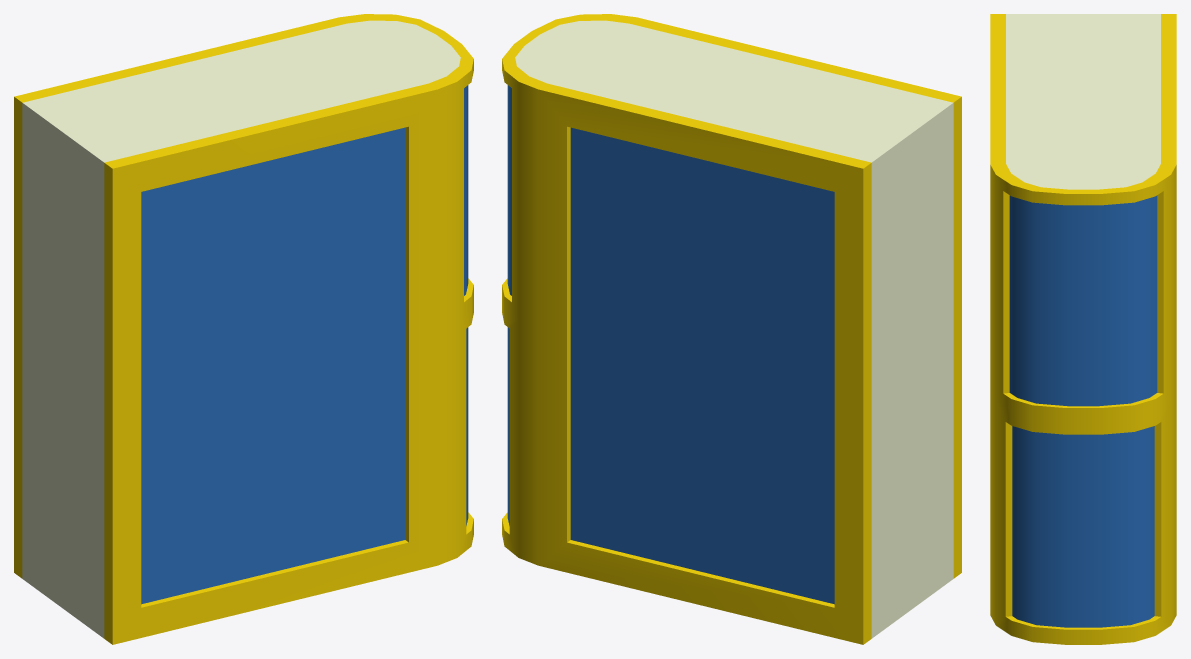
Rendered from Book_3.fbx.
3 views of the same model, side by side, from view 1: azimuth 30°, elevation 25°; view 2: azimuth 150°, elevation 25°; view 3: azimuth 270°, elevation 25° (orthographic). The views are drawn at different scales.
Visible parts, largest first — view 1: Book_3; view 2: Book_3; view 3: Book_3.
Part boxes in pixels (left/top/right/bottom): Book_3: left=14, top=14, right=473, bottom=644; Book_3: left=502, top=14, right=961, bottom=644; Book_3: left=990, top=14, right=1176, bottom=644.
Bounding box in the file's own units: 0.3426 × 0.4 × 0.15.
